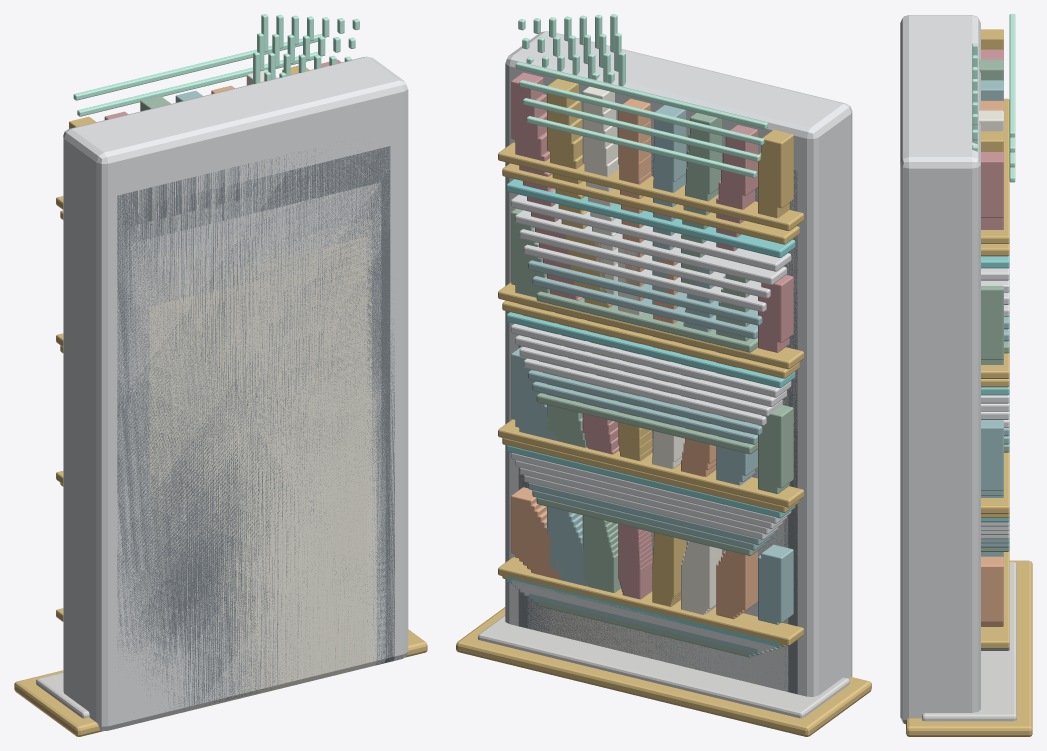
The model's file is Gear17.fbx.
The picture shows the model from 3 angles, left to right: view 1: azimuth 30°, elevation 25°; view 2: azimuth 150°, elevation 25°; view 3: azimuth 270°, elevation 25°; orthographic projection. The views are drawn at different scales.
Parts seen in each view (by area): view 1: Gear17_V10_Platinum, Gear17_V8_Graphite, Gear17_V2_Ivory, Gear17_V7_Graphite, Gear17_V4_Linen, Gear17_V3_Linen, Gear17_V5_Platinum, Gear17_V1_Ivory, Gear17_V9_Platinum, Gear17_V6_Platinum, Gear17_V10_Glow, Gear17_V9_Glow (+4 smaller); view 2: Gear17_V10_Platinum, Gear17_V10_Gold, Gear17_V5_Platinum, Gear17_V9_Gold, Gear17_V6_Platinum, Gear17_V8_Aqua, Gear17_V7_Platinum, Gear17_V3_Blue, Gear17_V1_Sage, Gear17_V4_Platinum, Gear17_V10_Blue, Gear17_V2_Blue (+51 smaller); view 3: Gear17_V10_Platinum, Gear17_V10_Gold, Gear17_V9_Gold, Gear17_V10_Sage, Gear17_V10_Blue, Gear17_V6_Chrome, Gear17_V10_Apricot, Gear17_V10_Rose, Gear17_V10_Glow, Gear17_V10_Chrome, Gear17_V7_Platinum, Gear17_V8_Aqua (+11 smaller).
Boxes of the visible parts, left/top/right/bottom form: Gear17_V10_Platinum: left=63, top=56, right=408, bottom=730; Gear17_V8_Graphite: left=117, top=149, right=394, bottom=711; Gear17_V2_Ivory: left=145, top=237, right=367, bottom=694; Gear17_V7_Graphite: left=122, top=146, right=390, bottom=706; Gear17_V4_Linen: left=135, top=215, right=376, bottom=701; Gear17_V3_Linen: left=140, top=219, right=371, bottom=695; Gear17_V5_Platinum: left=131, top=182, right=381, bottom=664; Gear17_V1_Ivory: left=148, top=266, right=361, bottom=720; Gear17_V9_Platinum: left=113, top=110, right=399, bottom=671; Gear17_V6_Platinum: left=126, top=186, right=385, bottom=697; Gear17_V10_Glow: left=73, top=14, right=359, bottom=100; Gear17_V9_Glow: left=77, top=33, right=355, bottom=116; Gear17_V10_Platinum: left=505, top=31, right=852, bottom=696; Gear17_V10_Gold: left=456, top=78, right=871, bottom=736; Gear17_V5_Platinum: left=519, top=229, right=783, bottom=690; Gear17_V9_Gold: left=462, top=100, right=800, bottom=735; Gear17_V6_Platinum: left=515, top=200, right=788, bottom=691; Gear17_V8_Aqua: left=506, top=179, right=795, bottom=648; Gear17_V7_Platinum: left=511, top=194, right=791, bottom=649; Gear17_V3_Blue: left=528, top=231, right=773, bottom=654; Gear17_V1_Sage: left=536, top=291, right=765, bottom=657; Gear17_V4_Platinum: left=523, top=244, right=778, bottom=653; Gear17_V10_Blue: left=511, top=105, right=793, bottom=622; Gear17_V2_Blue: left=532, top=256, right=769, bottom=656; Gear17_V10_Platinum: left=900, top=15, right=980, bottom=724; Gear17_V10_Gold: left=906, top=29, right=1032, bottom=736; Gear17_V9_Gold: left=908, top=243, right=1032, bottom=726; Gear17_V10_Sage: left=979, top=59, right=1003, bottom=359; Gear17_V10_Blue: left=980, top=80, right=1003, bottom=556; Gear17_V6_Chrome: left=981, top=571, right=1016, bottom=706; Gear17_V10_Apricot: left=981, top=100, right=1003, bottom=622; Gear17_V10_Rose: left=981, top=49, right=1003, bottom=217; Gear17_V10_Glow: left=972, top=14, right=1015, bottom=137; Gear17_V10_Chrome: left=922, top=562, right=1016, bottom=721; Gear17_V7_Platinum: left=981, top=267, right=1009, bottom=649; Gear17_V8_Aqua: left=981, top=255, right=1009, bottom=649.
Size of the model in its own units: 138 by 242 by 46.
